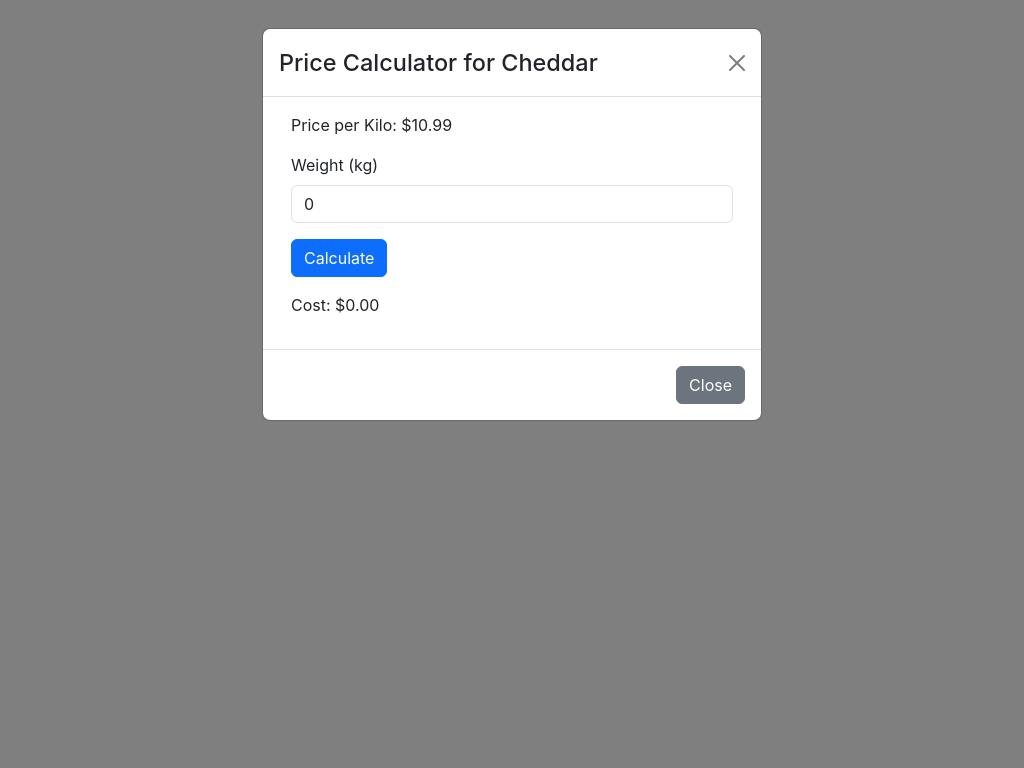
Scenario: PriceCalculator component › calculates cost correctly
Note: Enter weight value
Replace the text in the number field labelled "Weight (kg)" with "2" at (512, 204), box 291,185 -> 733,223
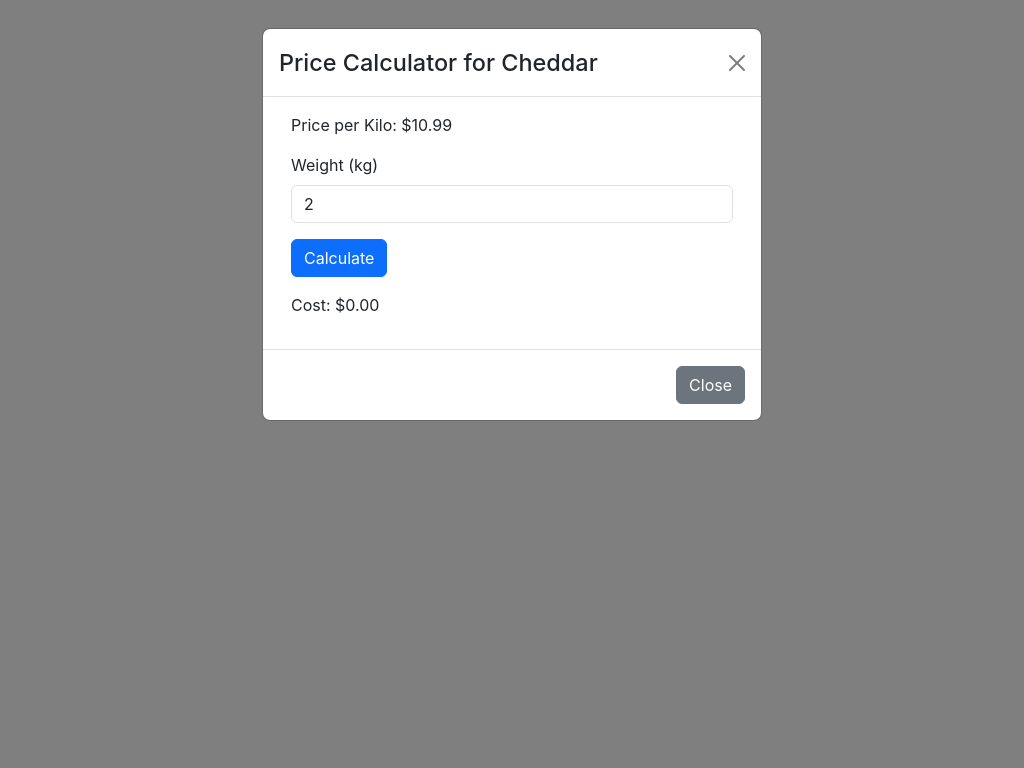
Note: Click calculate button
Click the button "Calculate" at (339, 258), box 291,239 -> 387,277
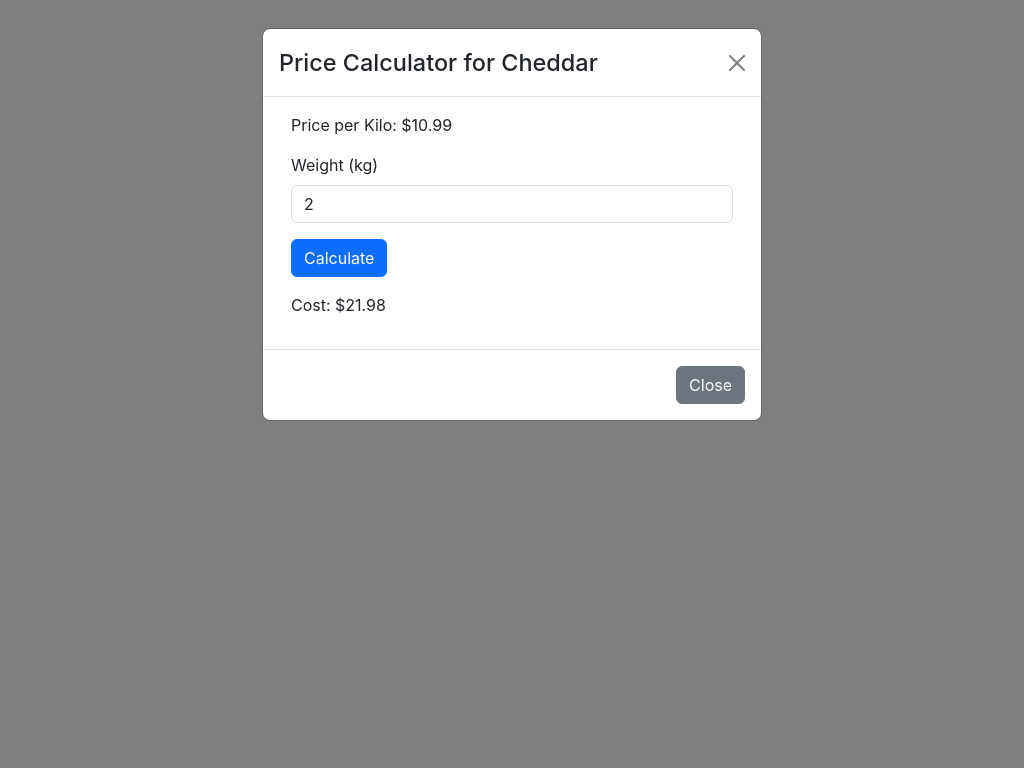
Expected: the text "Cost: $21.98" is shown, 291,295 -> 386,315
